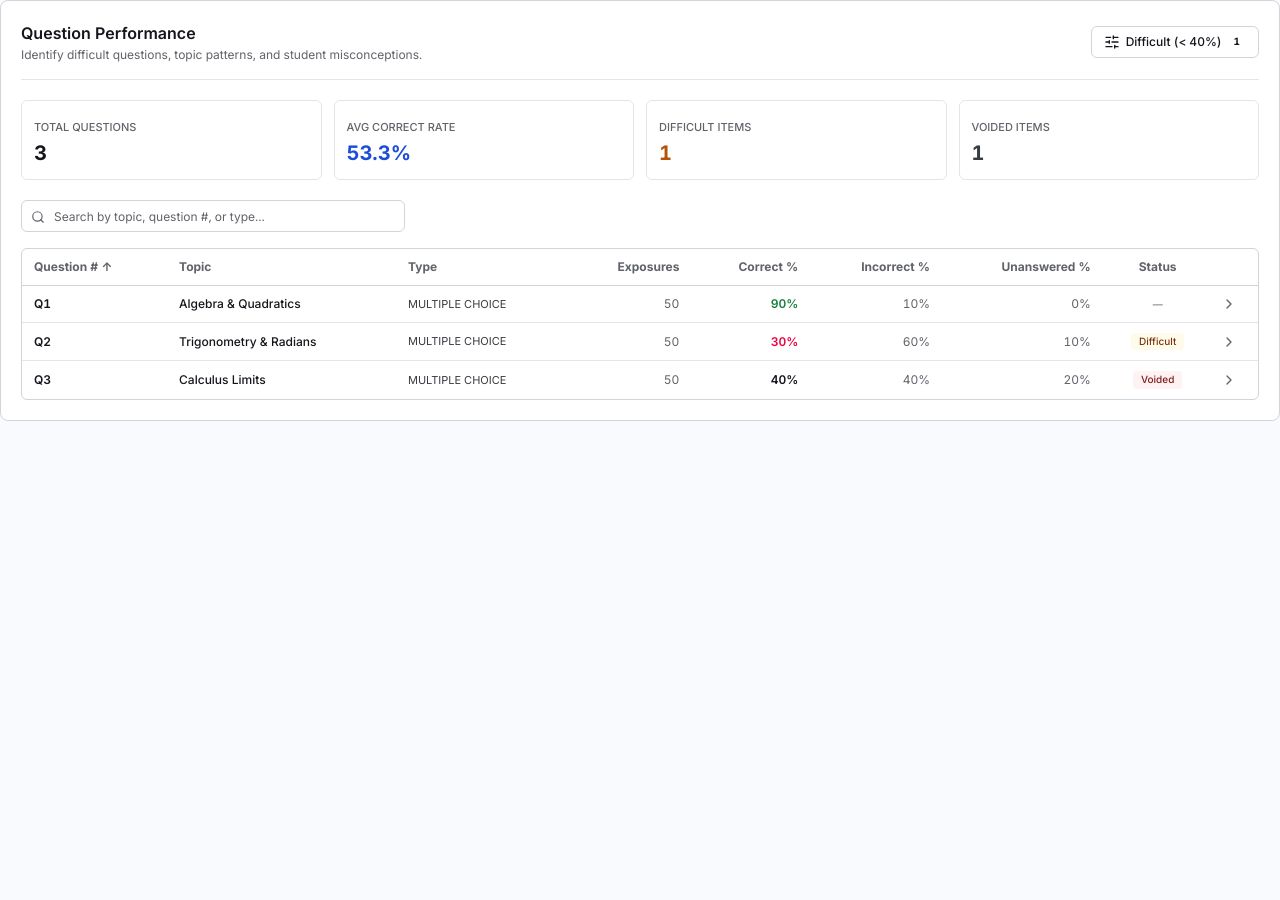
Test: QuestionPerformanceTable › opens question drilldown dialog with response breakdown and reteaching recommendation
expect the text "Trigonometry & Radians" is shown: met, box [179,334,316,349]
Click the text "Trigonometry & Radians": (640, 342) [22,322,1258,361]
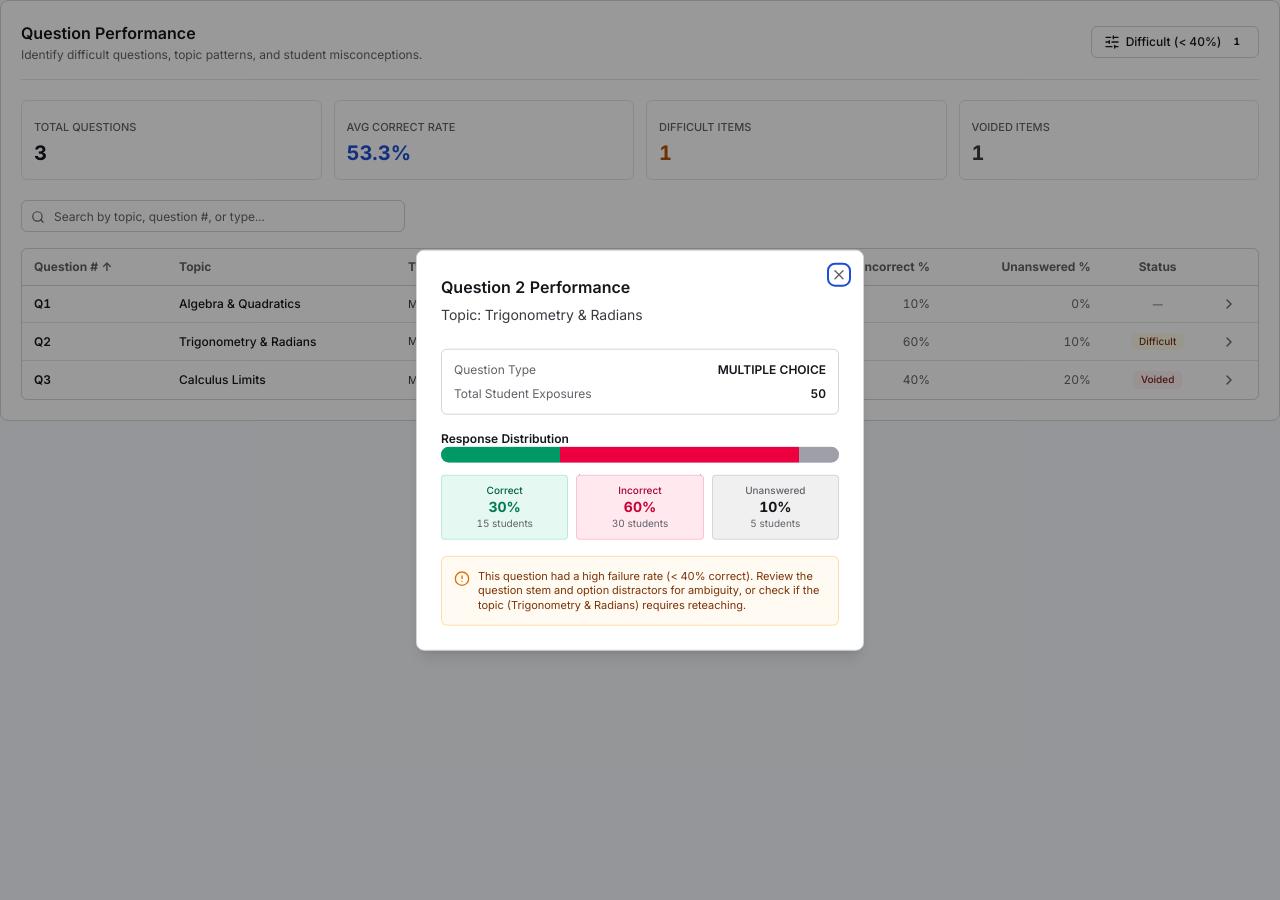
expect the text "Question 2 Performance" is shown: met, box [441,275,630,299]
expect the text "high failure rate" is shown: met, box [478,568,819,612]
expect the text "30 students" is shown: met, box [612,517,668,529]
